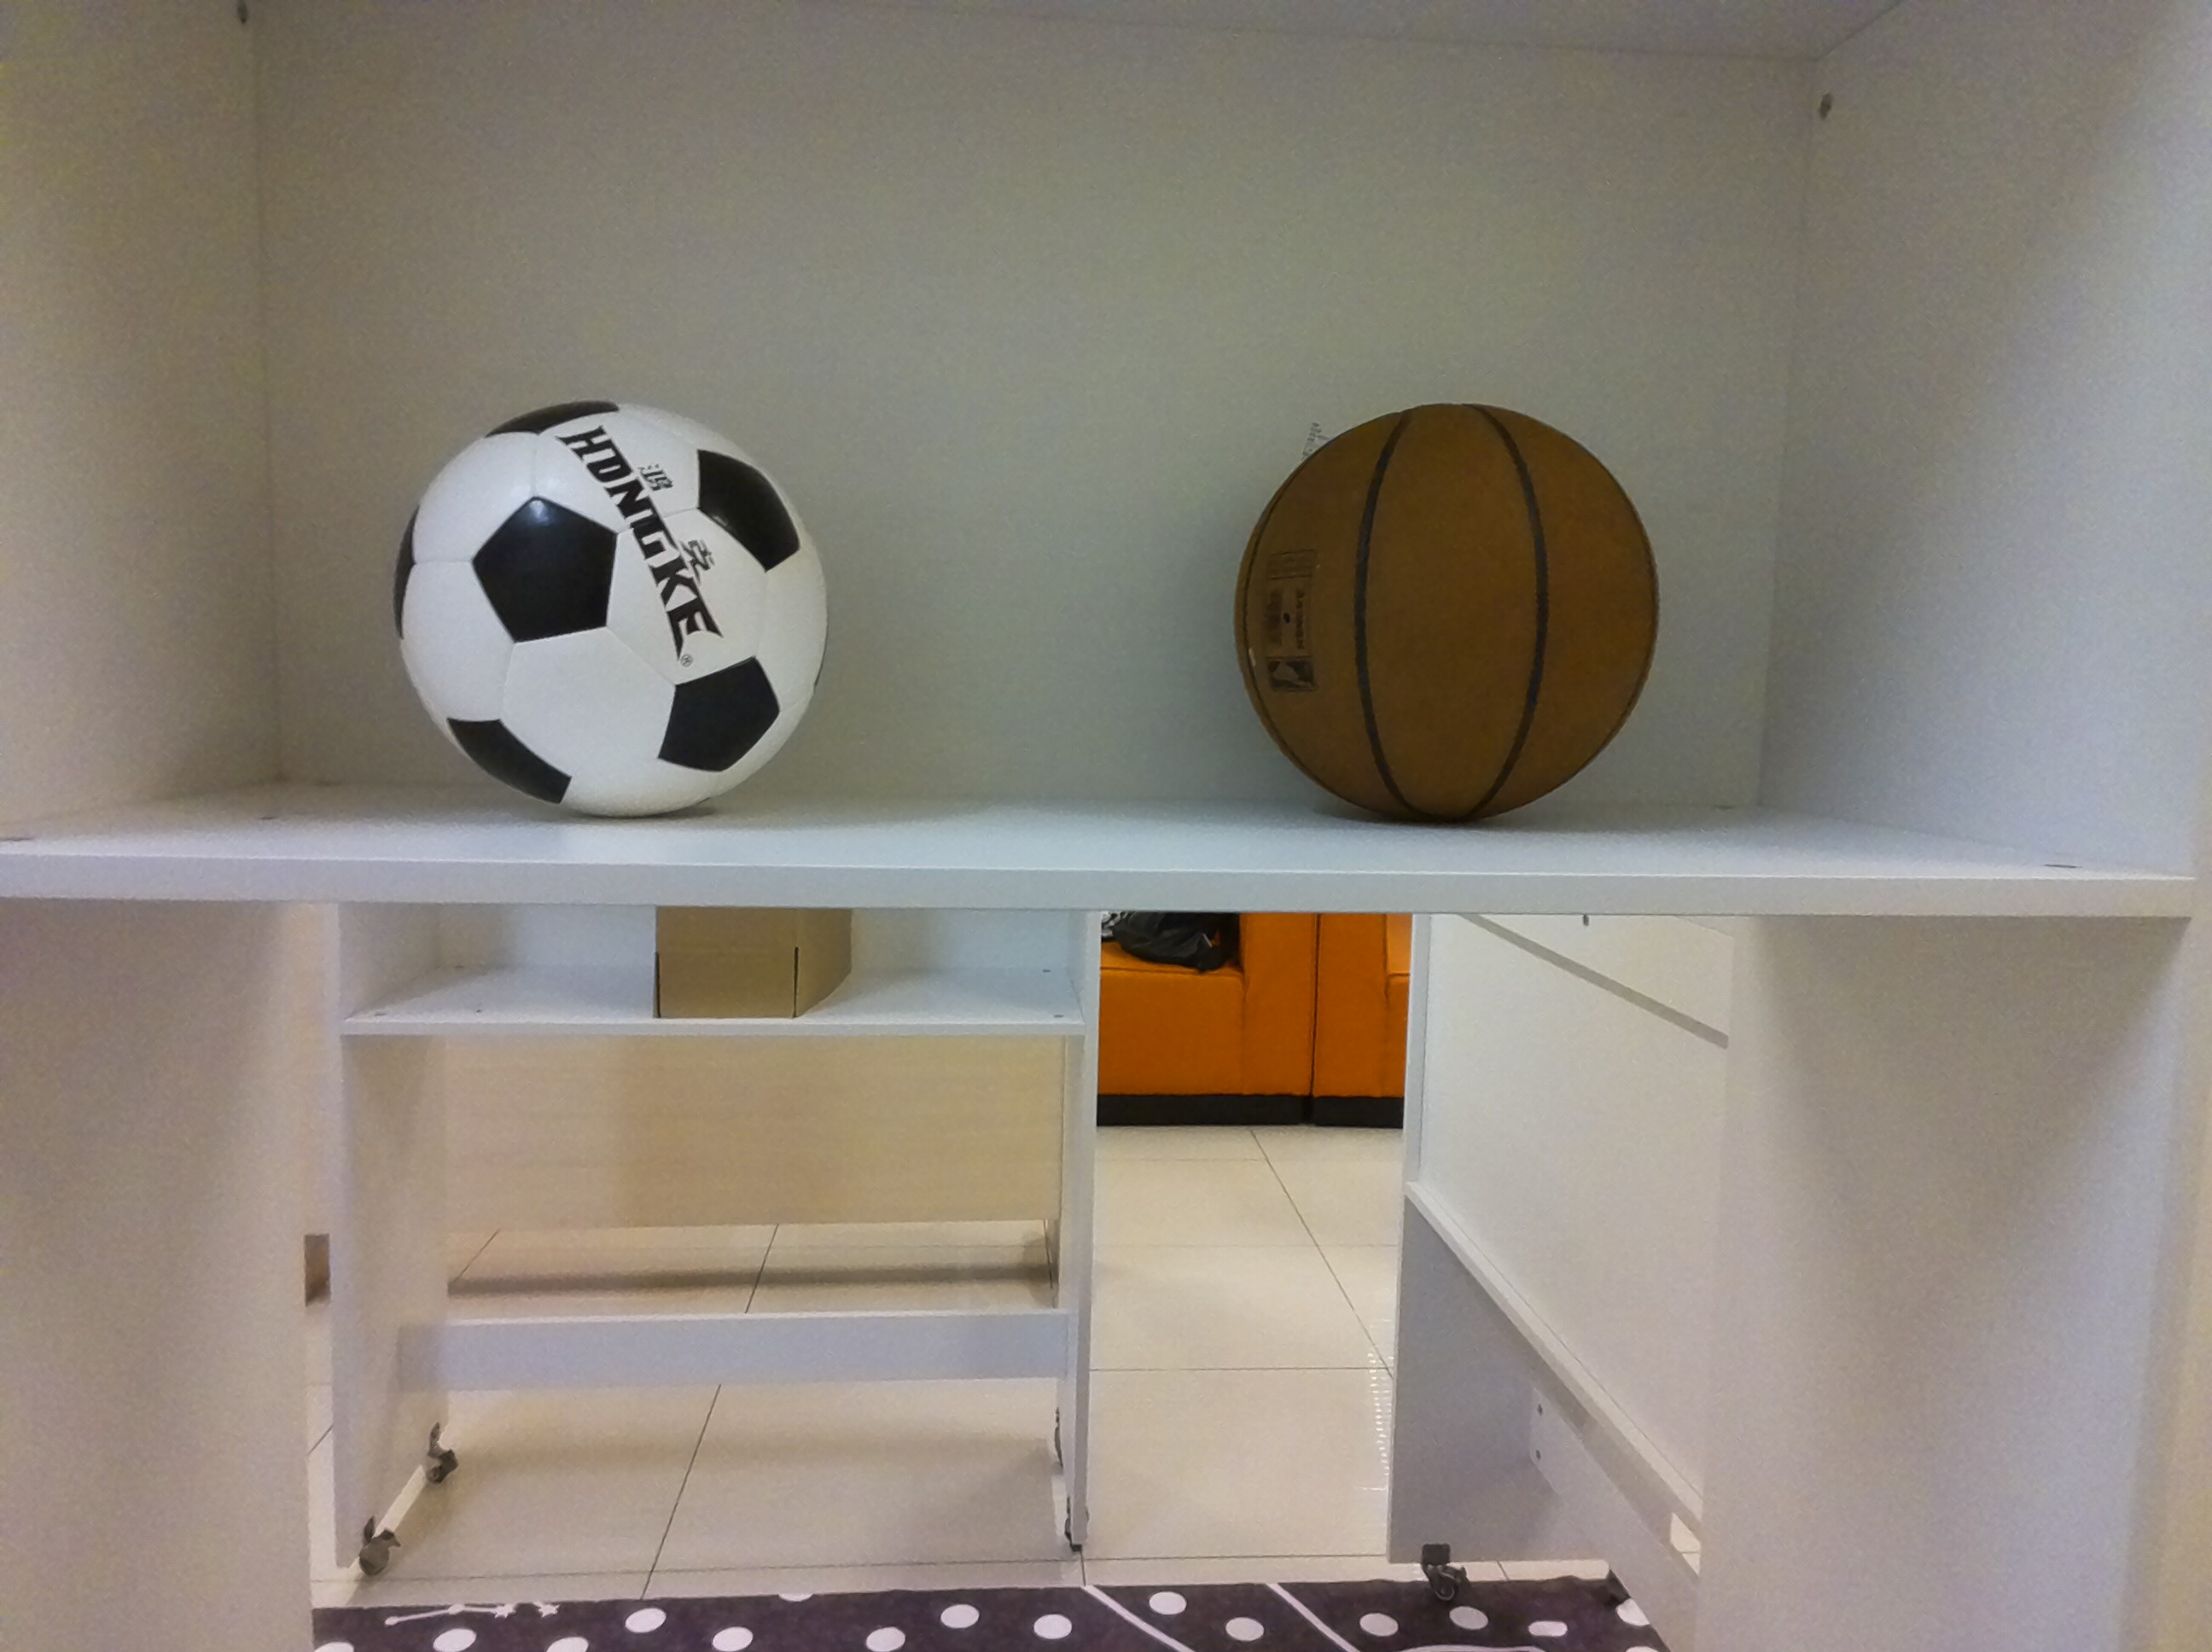basketball: (1220, 378, 1685, 845)
football: (382, 392, 845, 829)
